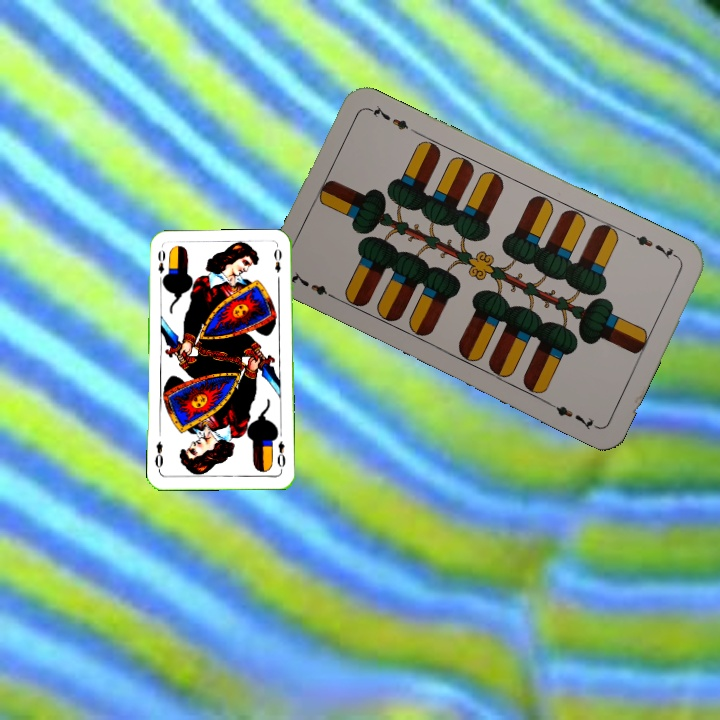E7: (285, 267, 340, 303), (626, 229, 682, 262)
EO: (154, 246, 168, 285), (273, 437, 288, 473)
